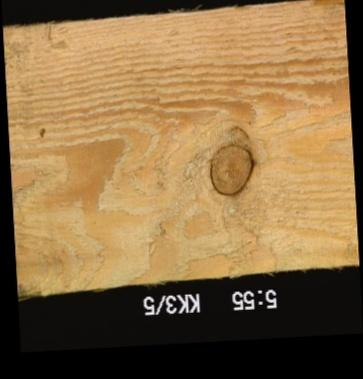dry_knot: (208, 142, 257, 197)
